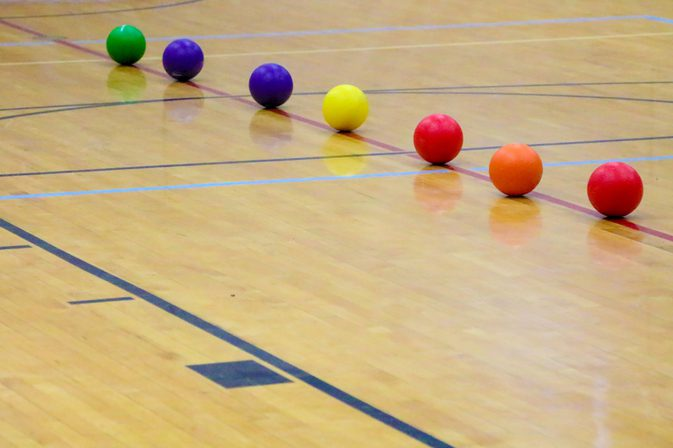red ball: (586, 160, 644, 219), (413, 113, 463, 167)
